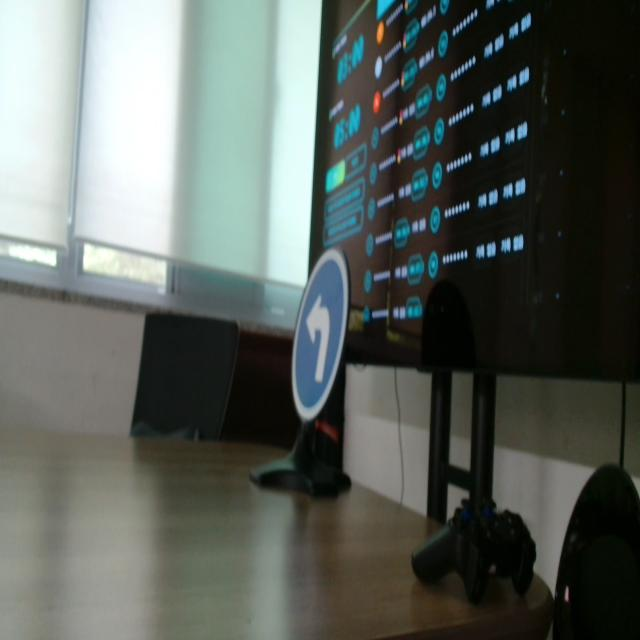left_direction: (287, 245, 352, 422)
